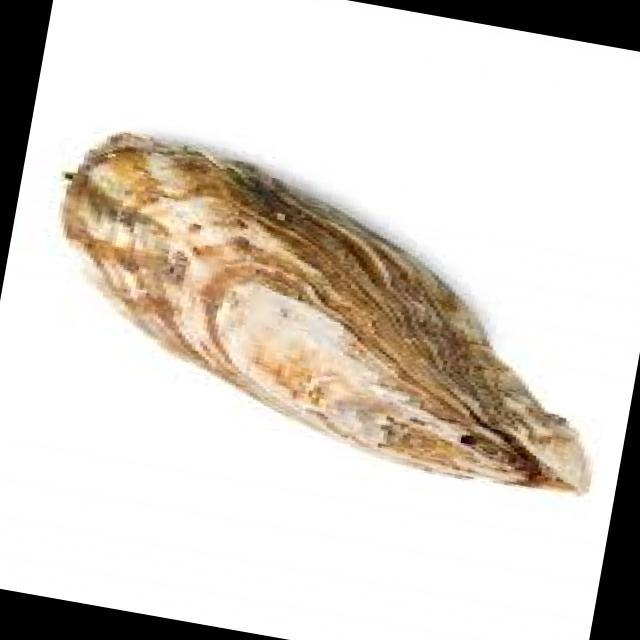Oyster- Indeterminate: (61, 133, 589, 496)
